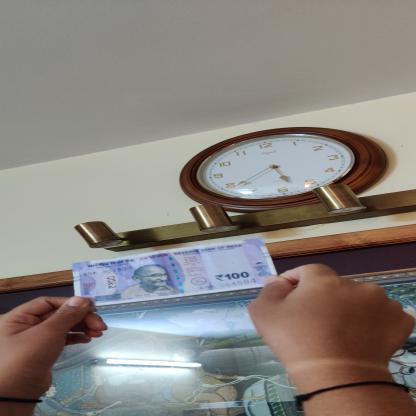New100Front: (72, 238, 279, 307)
